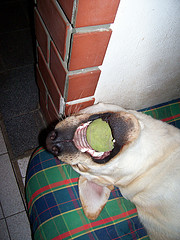tennis ball: (85, 114, 117, 154)
